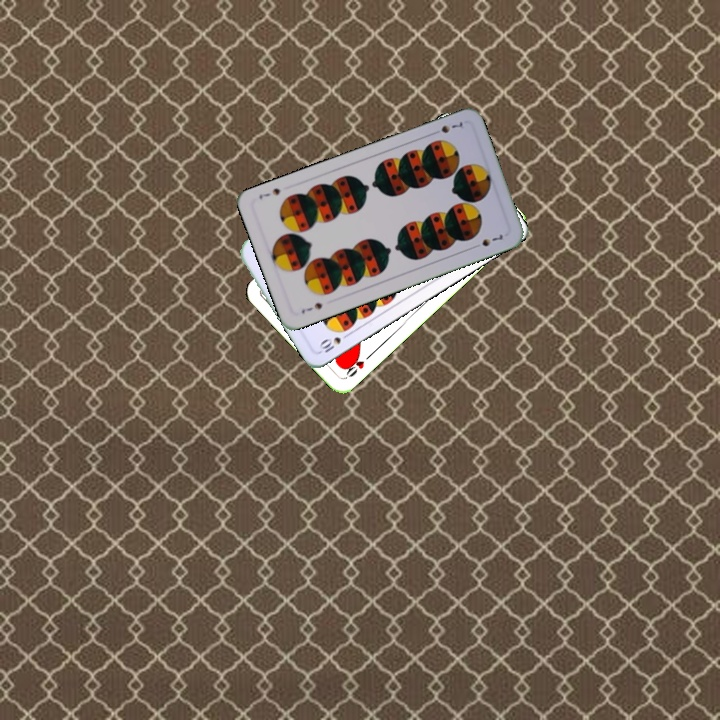HO: (340, 350, 374, 381)
S10: (315, 329, 353, 357)
S7: (428, 118, 467, 137), (297, 298, 325, 316)
